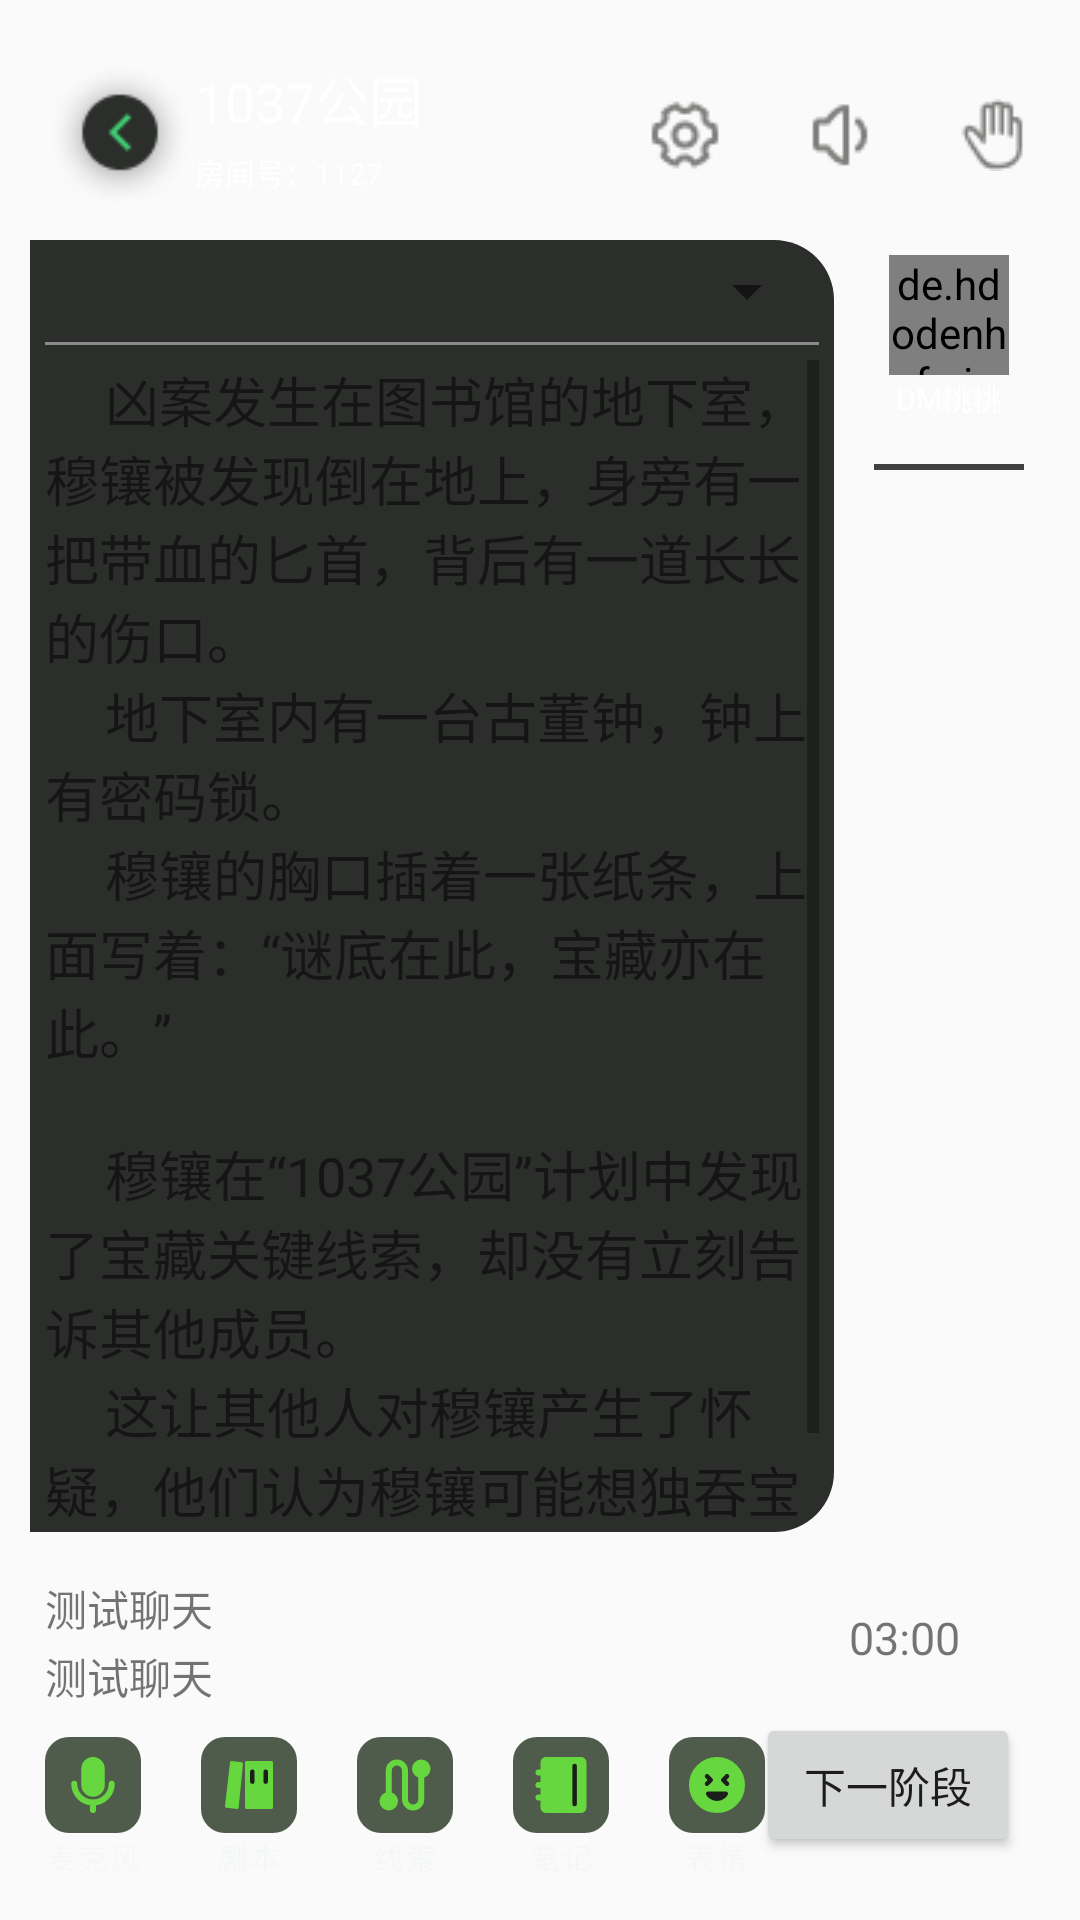

Icons on this 1080px×1920px Android screen, each with its box as box(x1, y1, x2, y2):
back: box(73, 88, 167, 182)
handsup: box(962, 99, 1023, 171)
settings: box(651, 101, 719, 168)
soundup: box(812, 104, 868, 166)
